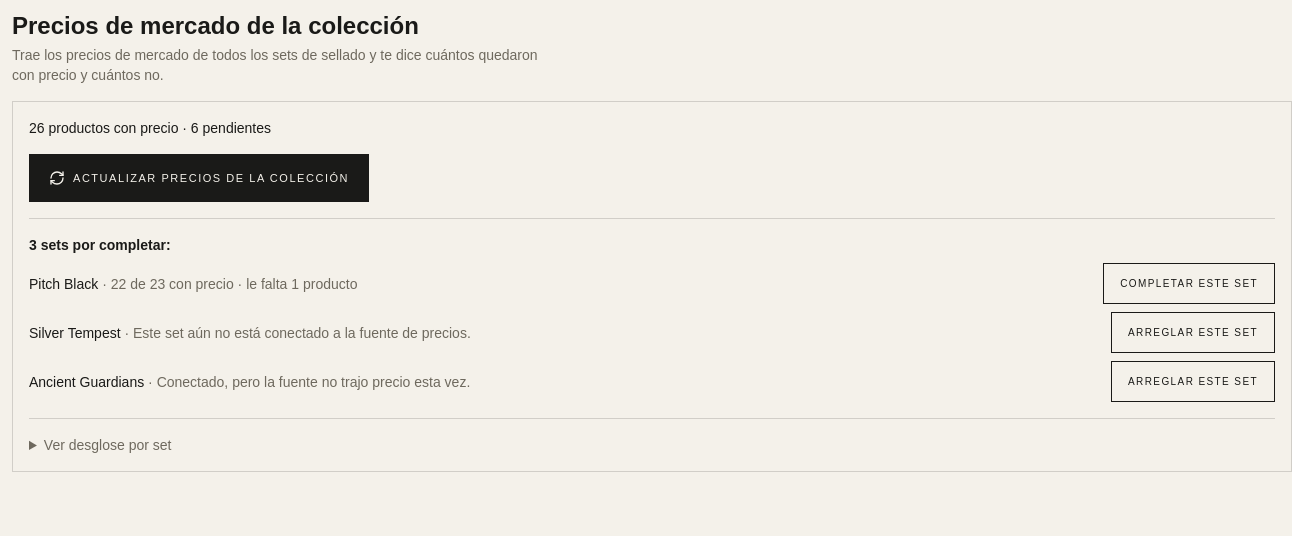
SealedPriceStatusSection · Precios de mercado de la colección (§diseño §2/§3) › estado en curso (single-flight): enqueued=false sin reason muestra el aviso, no un error
Click the button "Actualizar precios de la colección" at (199, 178), box 29,154 -> 369,202
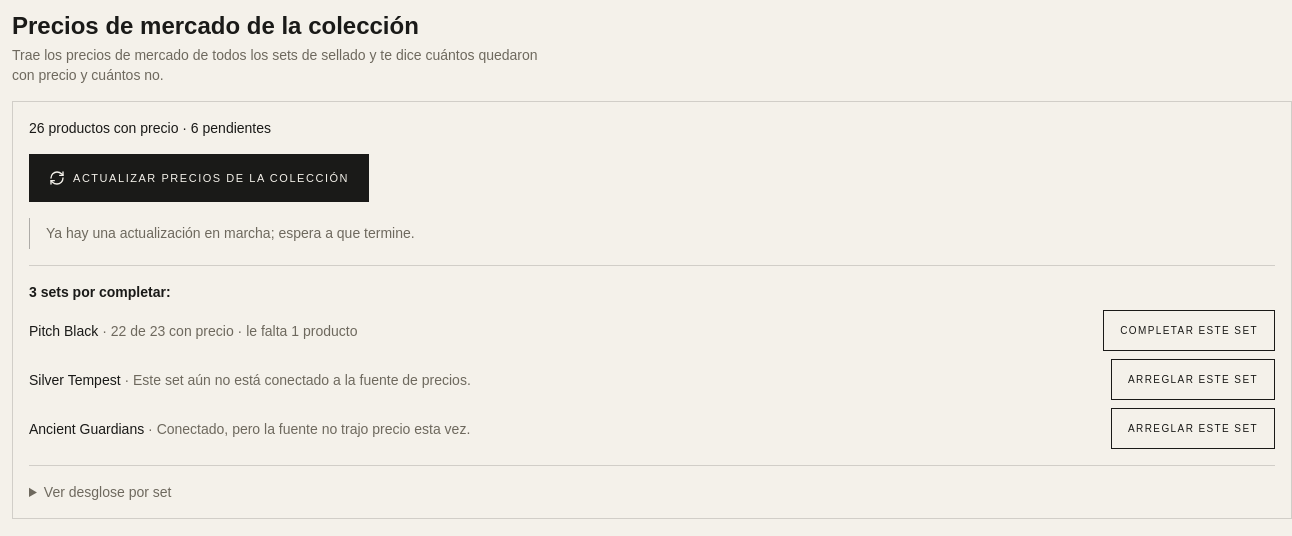
Expected: the text "Ya hay una actualización en marcha; espera a que termine." is shown, 46,225 -> 415,241
